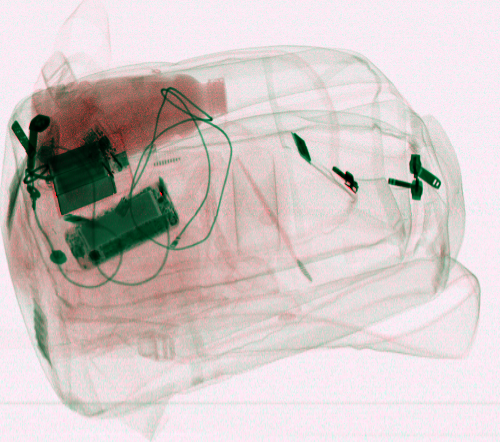Plastic Bottle: (31, 73, 228, 157)
